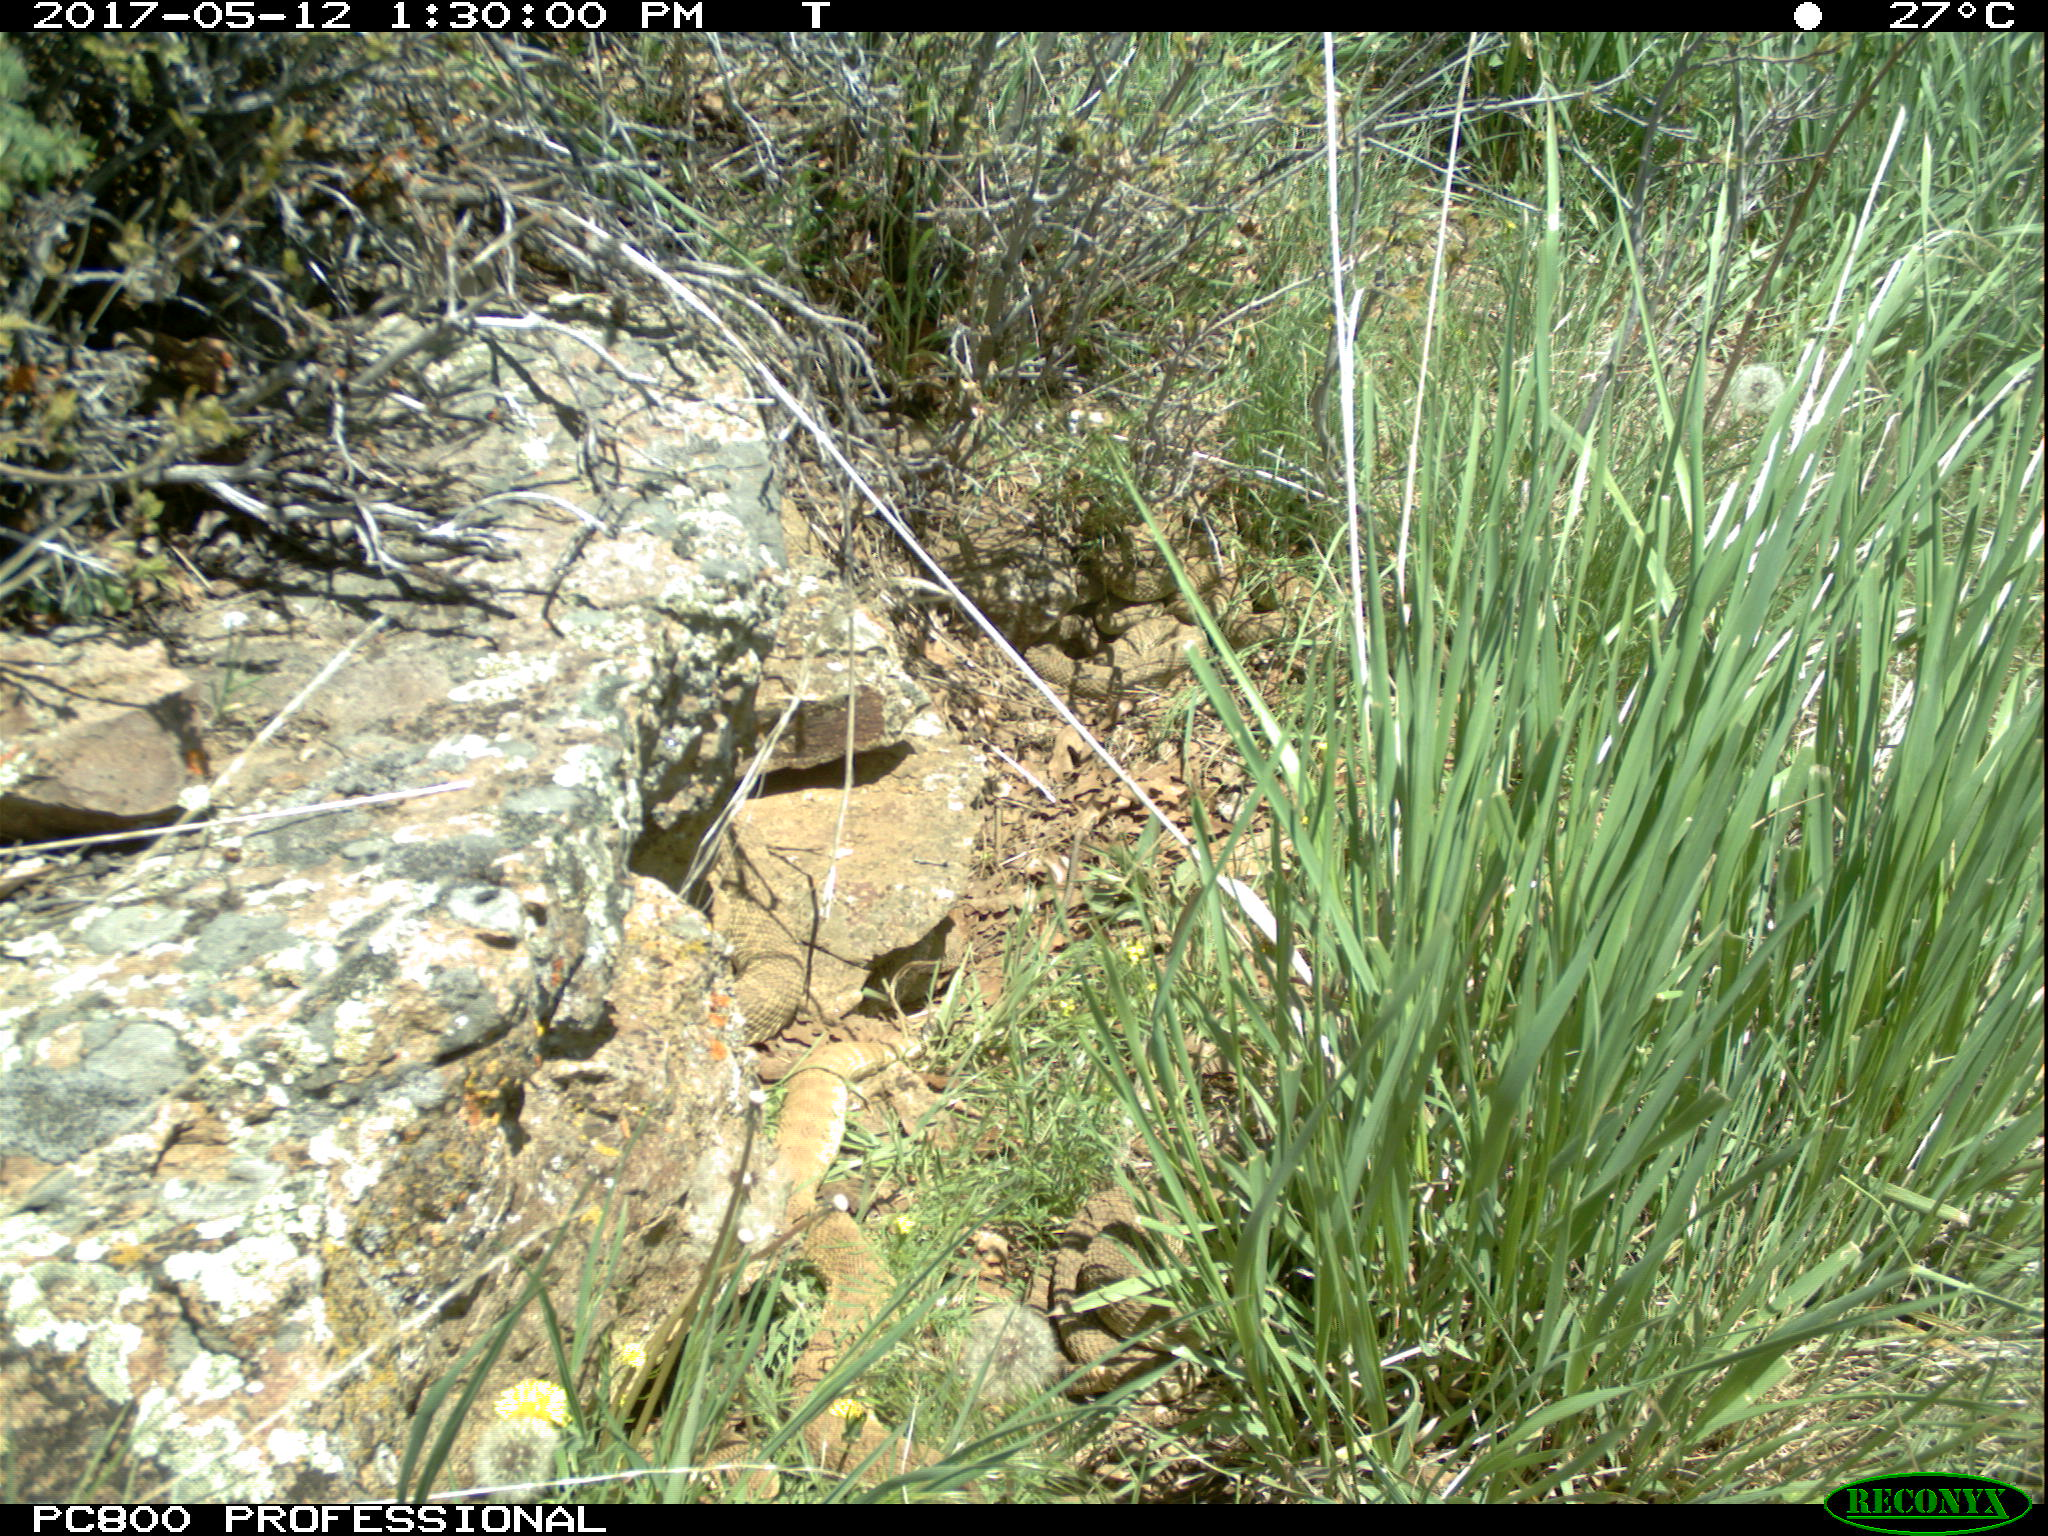snake: (748, 1033, 937, 1484), (1050, 1183, 1198, 1381), (708, 831, 800, 1034), (1024, 605, 1211, 687), (1097, 526, 1279, 602), (1201, 570, 1347, 663)
